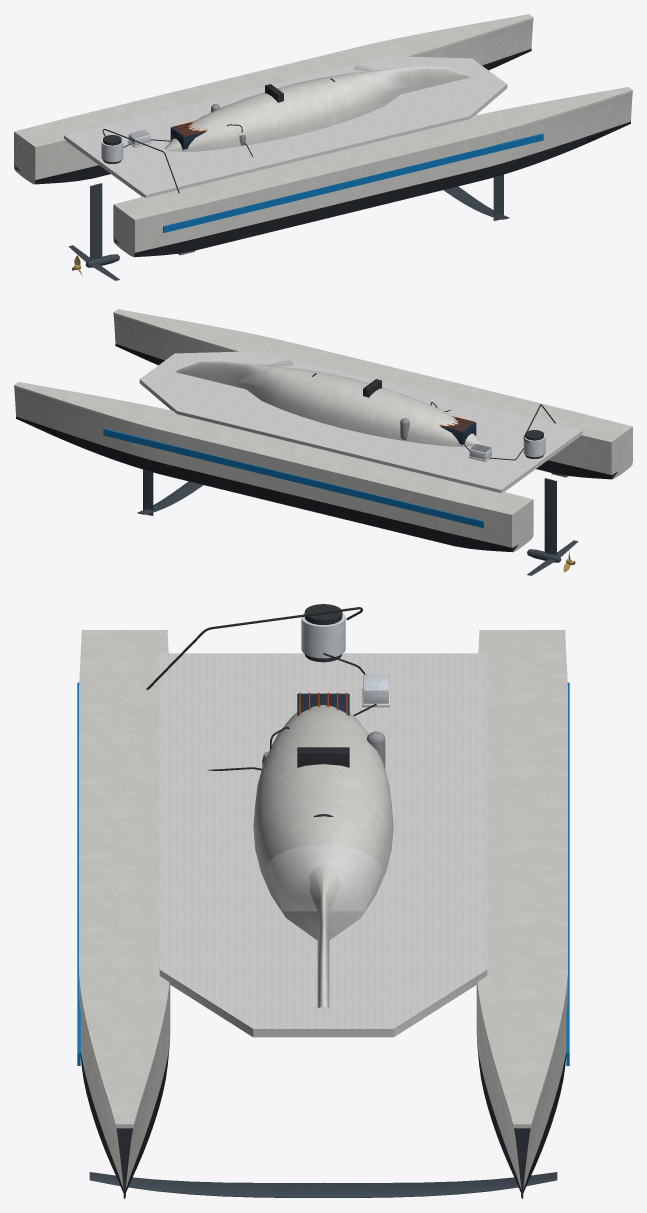
File: uniboat_cooling.glb
3 views of the same model, one above another, from view 1: azimuth 30°, elevation 25°; view 2: azimuth 150°, elevation 25°; view 3: azimuth 270°, elevation 25° (orthographic). The views are drawn at different scales.
Parts seen in each view (by area): view 1: Hull, Hull_Underwater, Foils, Cooling_Loop; view 2: Hull, Hull_Underwater, Foils, Cooling_Loop; view 3: Hull, Foils, Cooling_Loop, Hull_Underwater.
Part boxes in pixels (left/top/right/bottom): Hull: left=14, top=14, right=632, bottom=256; Hull_Underwater: left=14, top=49, right=630, bottom=257; Foils: left=68, top=174, right=509, bottom=280; Cooling_Loop: left=101, top=104, right=253, bottom=193; Hull: left=14, top=309, right=632, bottom=551; Hull_Underwater: left=16, top=344, right=632, bottom=552; Foils: left=137, top=469, right=578, bottom=575; Cooling_Loop: left=400, top=402, right=555, bottom=461; Hull: left=77, top=630, right=569, bottom=1188; Foils: left=89, top=1172, right=557, bottom=1198; Cooling_Loop: left=146, top=604, right=389, bottom=770; Hull_Underwater: left=80, top=1043, right=566, bottom=1194.
Size of what is drawn, in the model's own units: 10.02 by 2.6 by 4.21.
Materials: 16 (13 with a texture image).
